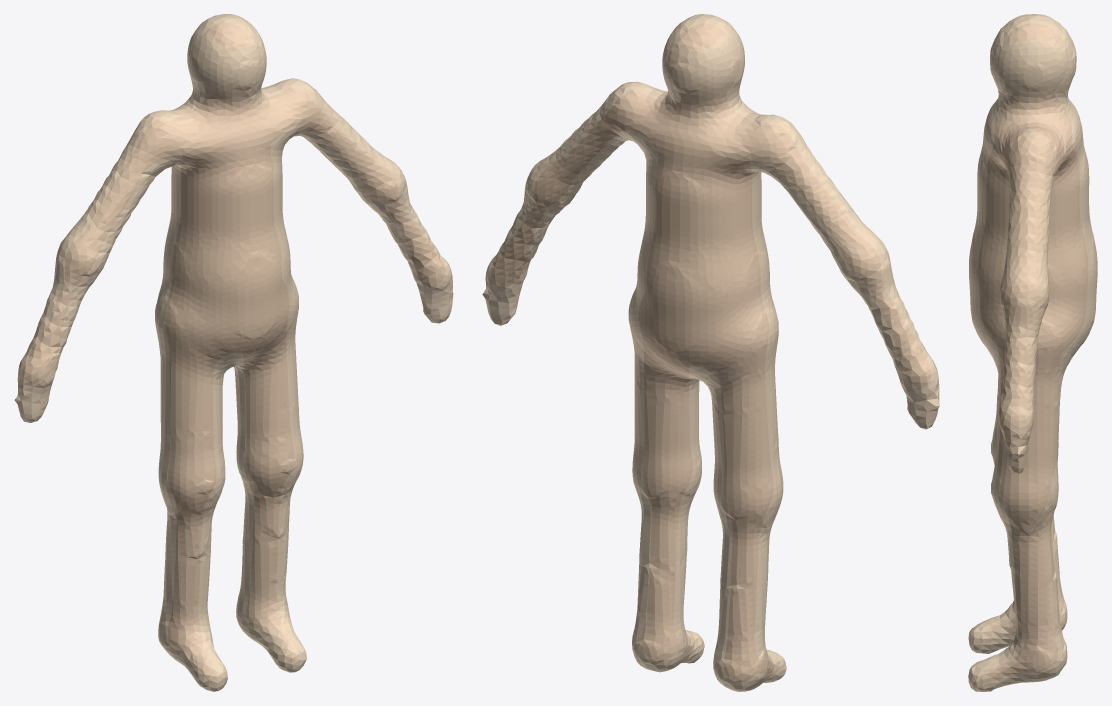
The model's file is human.glb.
3 renders of one model, left to right at view 1: azimuth 30°, elevation 25°; view 2: azimuth 150°, elevation 25°; view 3: azimuth 270°, elevation 25°, orthographic. The views are drawn at different scales.
Parts seen in each view (by area): view 1: skin; view 2: skin; view 3: skin.
Part boxes in pixels (bbox=[...]): skin: bbox=[14, 14, 453, 691]; skin: bbox=[482, 14, 939, 691]; skin: bbox=[968, 14, 1097, 691].
Bounding box in the file's own units: 1.23 × 1.73 × 0.3099.
